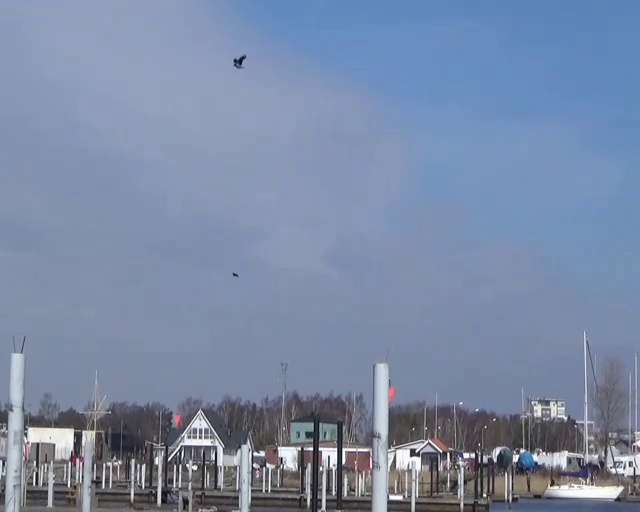BIRD: (233, 54, 247, 68)
